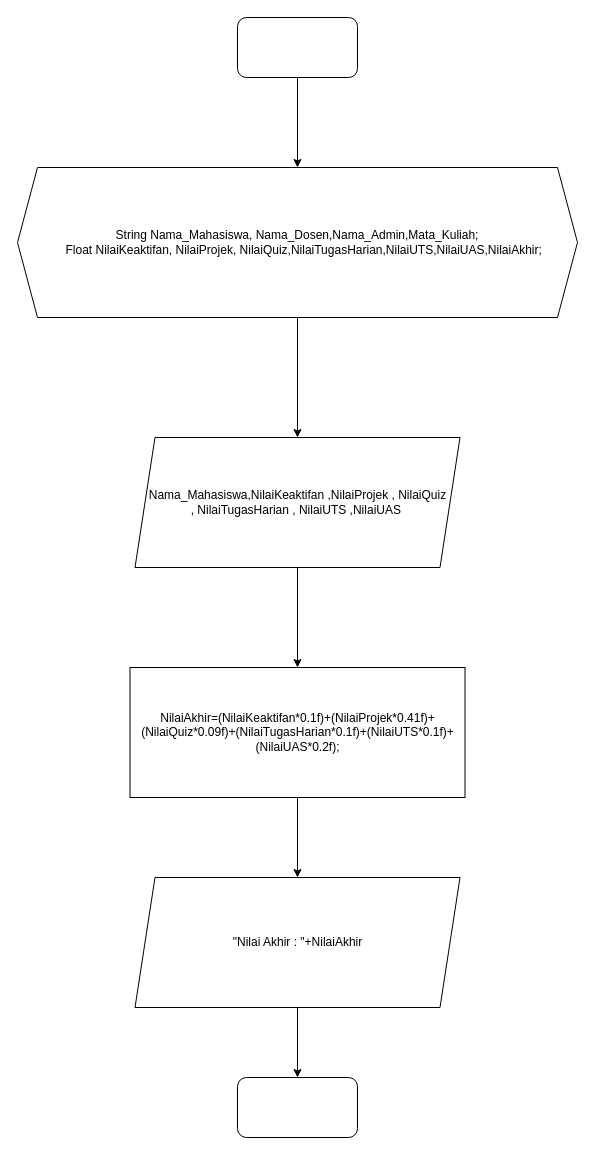
This 595x1155 diagram has some shape labels left out. The shapes that lost their labels are listed below. From the top down, each one's centre as x and y in pixels, then its label:
(x=297, y=47): Start
(x=297, y=1107): end
